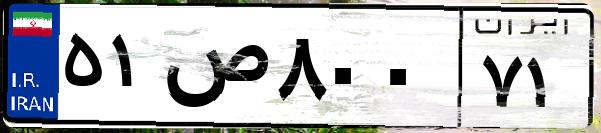0: (385, 28, 445, 110), (330, 28, 385, 110)
1: (525, 38, 570, 115), (110, 28, 158, 98)
5: (57, 26, 110, 100)
7: (475, 38, 525, 113)
8: (270, 28, 330, 110)
ص: (158, 20, 270, 120)
